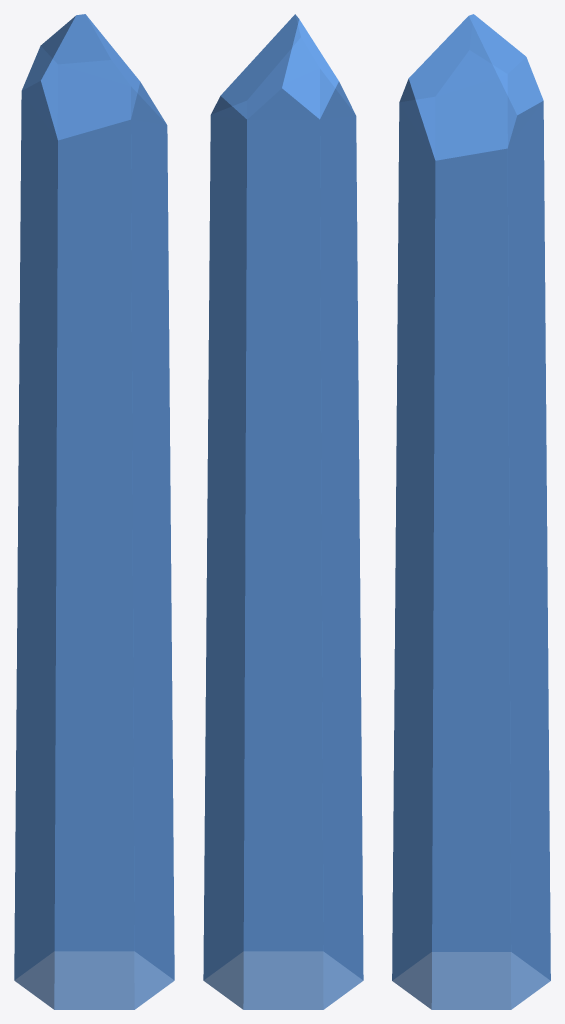
Rendered from Crystal_m_08.fbx.
The picture shows the model from 3 angles, left to right: view 1: azimuth 30°, elevation 25°; view 2: azimuth 150°, elevation 25°; view 3: azimuth 270°, elevation 25°; orthographic projection.
Parts seen in each view (by area): view 1: Crystal_m_08; view 2: Crystal_m_08; view 3: Crystal_m_08.
Boxes of the visible parts, x1,y1,x2,y2 form: Crystal_m_08: (14, 14, 174, 1009); Crystal_m_08: (203, 14, 363, 1009); Crystal_m_08: (392, 14, 550, 1009).
Bounding box in the file's own units: 36.41 × 281 × 42.04.
